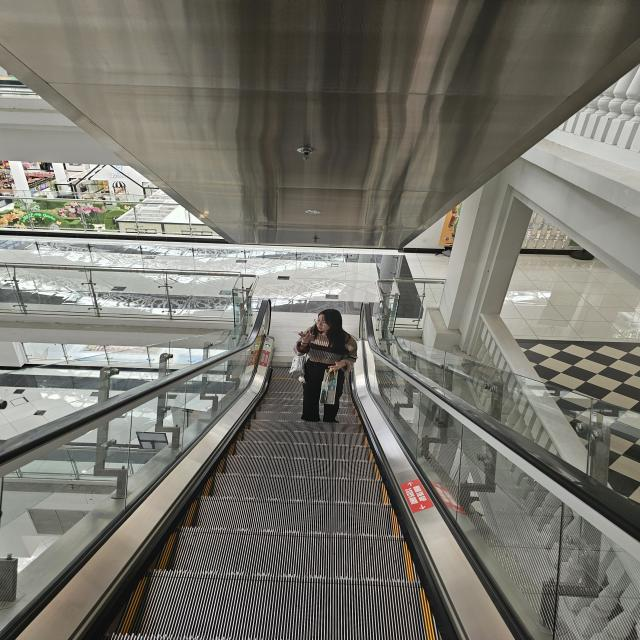elevator: (1, 1, 638, 638)
escalator: (108, 363, 443, 639)
person: (294, 308, 358, 422)
